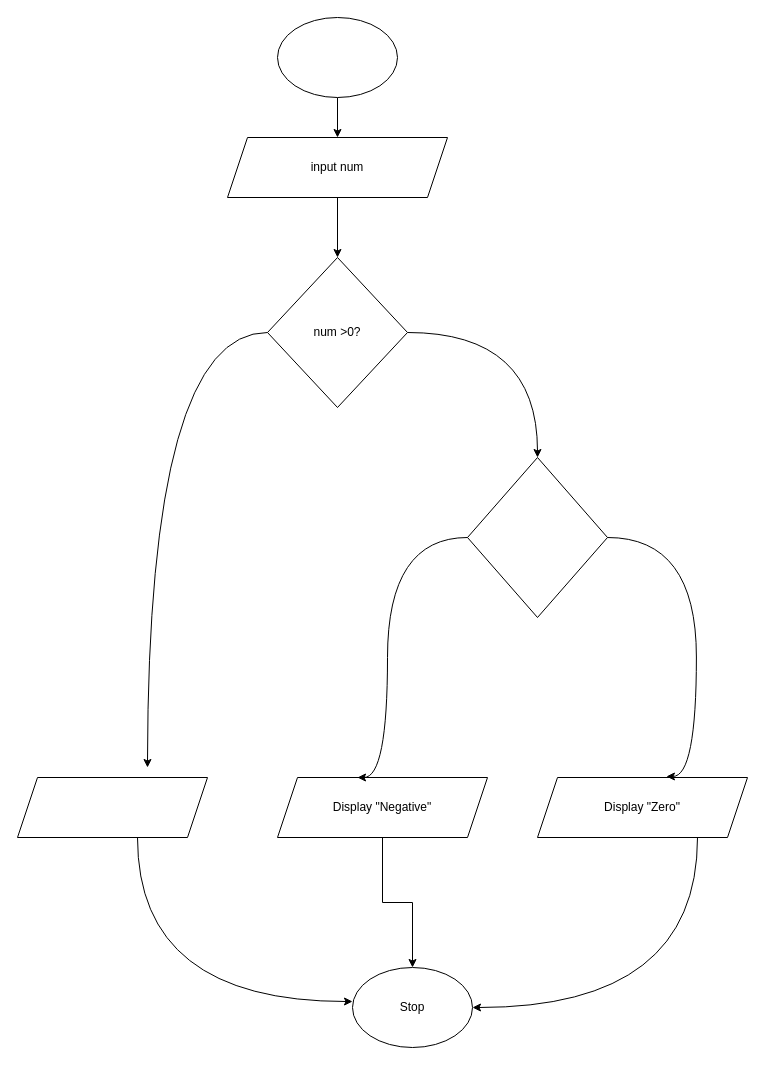
This 765x1065 diagram has some shape labels left out. The centre of each missing label's shape, as x and y in pixels:
Display "Positeve": point (112, 807)
Num <0?: point (537, 537)
start: point (337, 57)
